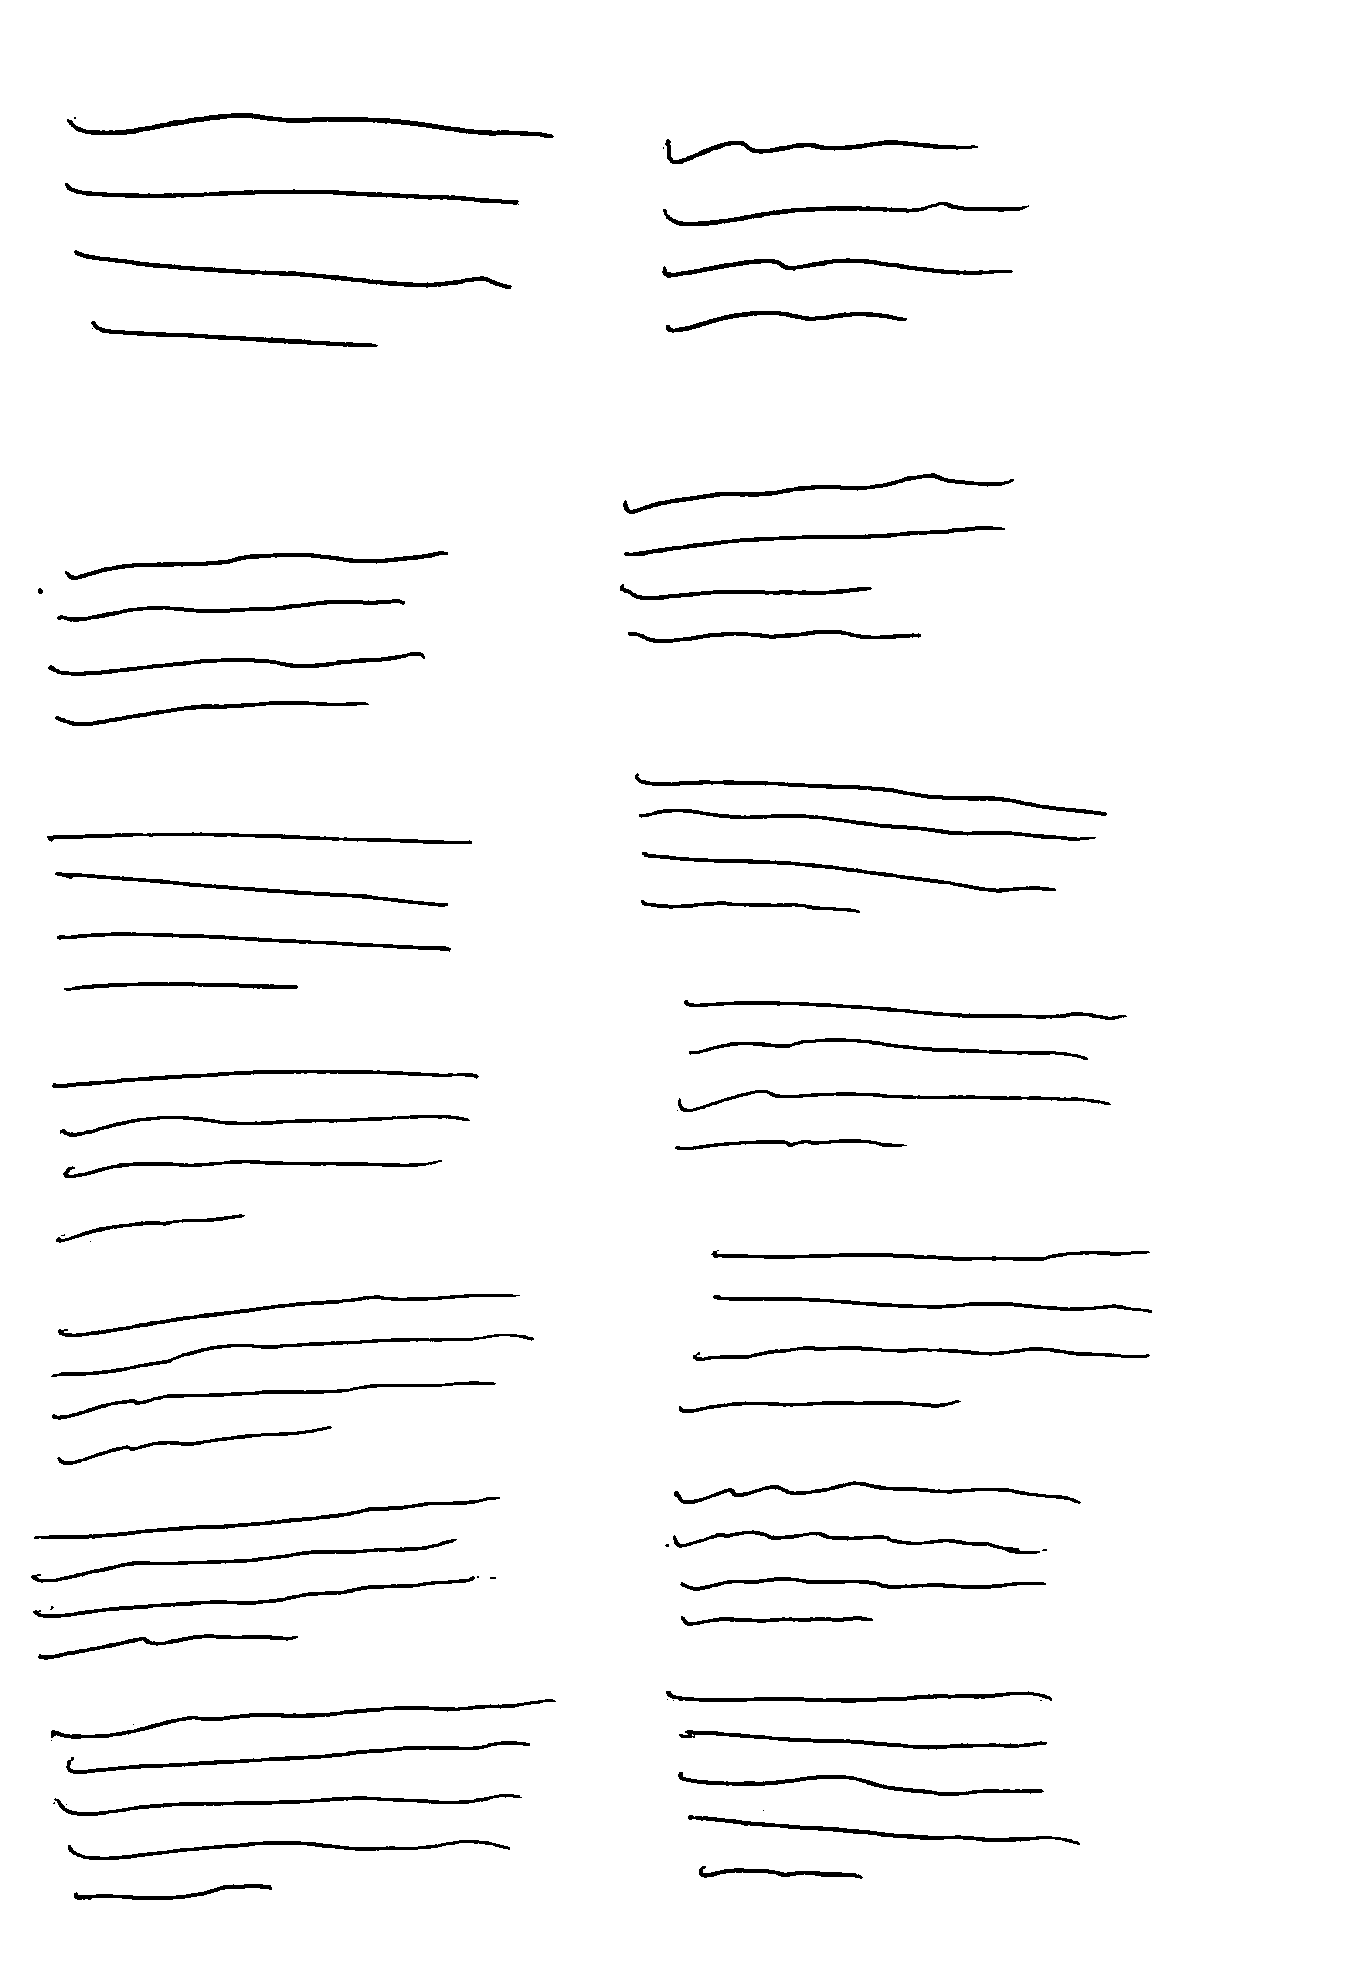Paragraph: (55, 102, 554, 359), (46, 1686, 548, 1907), (43, 1279, 540, 1477), (664, 1241, 1170, 1415), (661, 1683, 1076, 1889), (25, 1489, 501, 1668), (652, 123, 1046, 338), (619, 762, 1116, 925), (46, 538, 457, 732), (43, 1063, 483, 1244), (664, 989, 1140, 1155), (43, 822, 480, 998), (613, 468, 1013, 644), (661, 1477, 1088, 1635)
